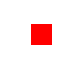square: (31, 24, 51, 44)
